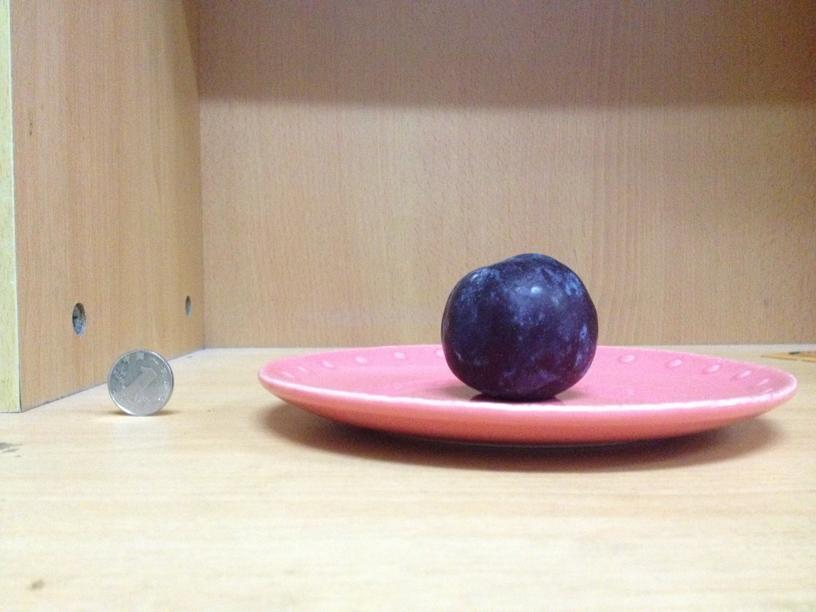coin: (105, 348, 175, 416)
plum: (89, 156, 170, 231)
